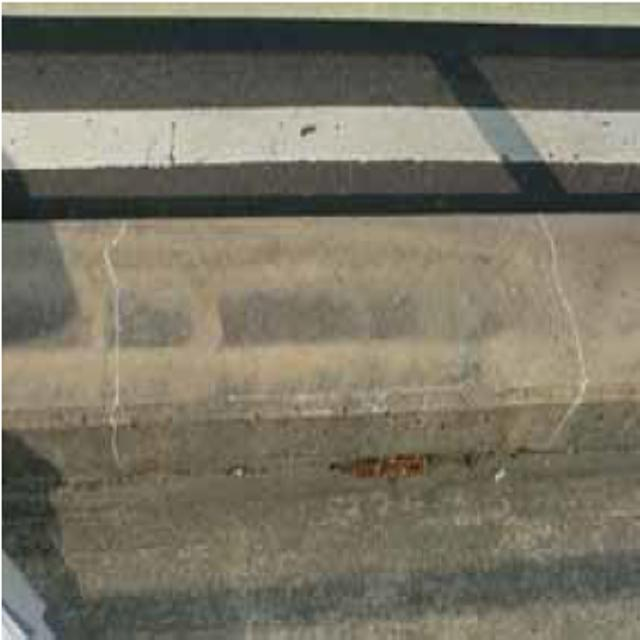crack: (96, 216, 181, 480), (540, 216, 599, 468)
